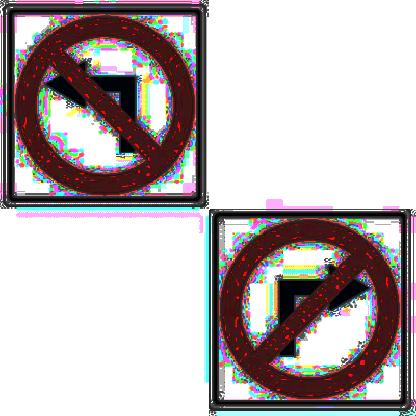No left turn: (2, 4, 204, 199)
